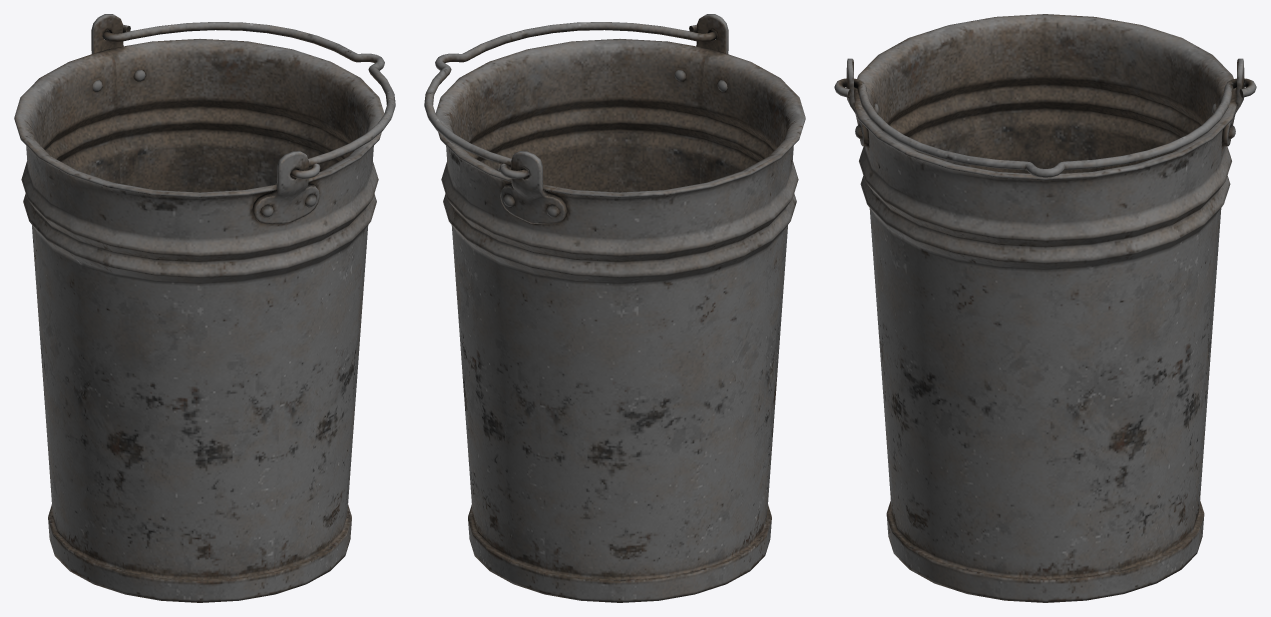
The model's file is SM_Bucket01_1_LOD0.glb.
3 views of the same model, side by side, from view 1: azimuth 30°, elevation 25°; view 2: azimuth 150°, elevation 25°; view 3: azimuth 270°, elevation 25° (orthographic). The views are drawn at different scales.
Parts seen in each view (by area): view 1: SM_Bucket01_1_LOD0; view 2: SM_Bucket01_1_LOD0; view 3: SM_Bucket01_1_LOD0.
Boxes of the visible parts, <box> form: SM_Bucket01_1_LOD0: <box>14,14,395,602</box>; SM_Bucket01_1_LOD0: <box>424,14,805,602</box>; SM_Bucket01_1_LOD0: <box>834,14,1256,602</box>.
Size of the model in its own units: 0.3547 by 0.4493 by 0.3615.
Materials: 1 (1 with a texture image).
